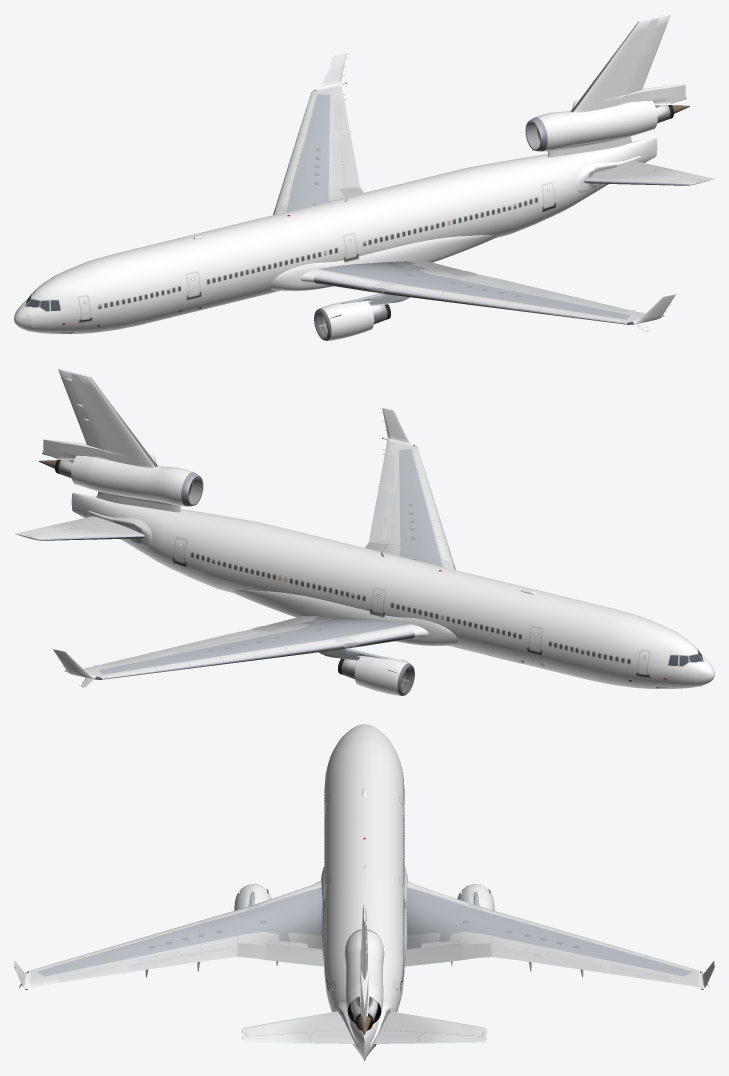
3 views of the same model, one above another, from view 1: azimuth 30°, elevation 25°; view 2: azimuth 150°, elevation 25°; view 3: azimuth 270°, elevation 25° (orthographic). The views are drawn at different scales.
Visible parts, largest first — view 1: fuselage, wing2.grey.part2, wing1.grey.part1, wing1.grey.part2, HorzStab1, slat.1.part2, engines, wing2.grey.part3, slat.2, flap.7, wing1.grey.part3, slat.1.part3 (+8 smaller); view 2: fuselage, wing1.grey.part2, wing2.grey.part1, wing2.grey.part2, HorzStab2, slat.4.part2, engines, wing1.grey.part3, slat.3, flap.1, wing2.grey.part3, slat.4.part3 (+8 smaller); view 3: fuselage, wing1.grey.part1, wing2.grey.part1, wing1.grey.part2, wing2.grey.part2, HorzStab2, HorzStab1, flap.1, flap.7, flap.3, flap.5, wing.1 (+15 smaller).
Part boxes in pixels (bbox=[...]): fuselage: bbox=[19, 18, 686, 333]; wing2.grey.part2: bbox=[290, 135, 329, 197]; wing1.grey.part1: bbox=[320, 262, 447, 285]; wing1.grey.part2: bbox=[410, 278, 552, 304]; HorzStab1: bbox=[584, 167, 701, 185]; slat.1.part2: bbox=[395, 286, 527, 310]; engines: bbox=[317, 300, 360, 340]; wing2.grey.part3: bbox=[305, 94, 329, 140]; slat.2: bbox=[314, 269, 380, 291]; flap.7: bbox=[339, 133, 360, 187]; wing1.grey.part3: bbox=[530, 299, 630, 319]; slat.1.part3: bbox=[518, 305, 622, 323]; fuselage: bbox=[42, 373, 709, 688]; wing1.grey.part2: bbox=[399, 490, 438, 552]; wing2.grey.part1: bbox=[281, 617, 408, 640]; wing2.grey.part2: bbox=[176, 633, 318, 659]; HorzStab2: bbox=[27, 522, 144, 540]; slat.4.part2: bbox=[201, 641, 333, 665]; engines: bbox=[368, 655, 411, 695]; wing1.grey.part3: bbox=[399, 449, 423, 495]; slat.3: bbox=[348, 624, 414, 646]; flap.1: bbox=[368, 488, 389, 542]; wing2.grey.part3: bbox=[98, 654, 198, 674]; slat.4.part3: bbox=[106, 660, 210, 678]; fuselage: bbox=[321, 724, 407, 1061]; wing1.grey.part1: bbox=[237, 888, 322, 941]; wing2.grey.part1: bbox=[406, 888, 491, 941]; wing1.grey.part2: bbox=[126, 914, 237, 958]; wing2.grey.part2: bbox=[491, 914, 602, 958]; HorzStab2: bbox=[380, 1011, 486, 1036]; HorzStab1: bbox=[242, 1011, 348, 1036]; flap.1: bbox=[126, 947, 237, 972]; flap.7: bbox=[491, 947, 602, 972]; flap.3: bbox=[265, 943, 324, 966]; flap.5: bbox=[404, 943, 463, 966]; wing.1: bbox=[237, 887, 322, 949].
Size of the model in its own units: 61.61 by 16.69 by 52.1.
13 materials, 8 textured.
